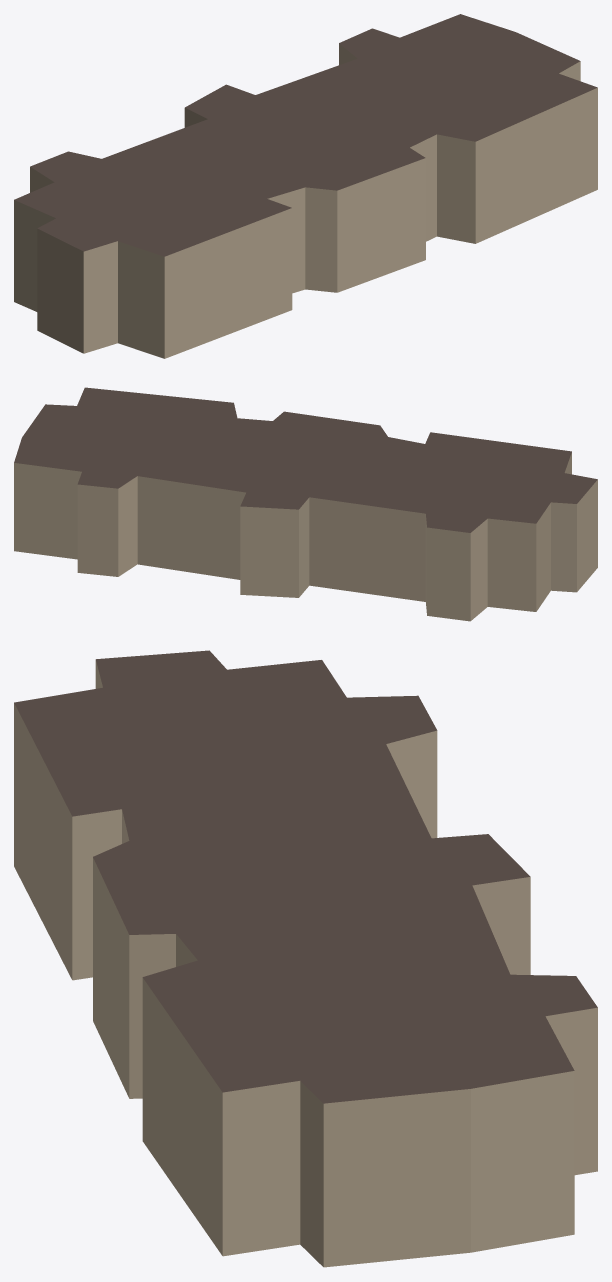
The picture shows the model from 3 angles, top to bottom: view 1: azimuth 30°, elevation 25°; view 2: azimuth 150°, elevation 25°; view 3: azimuth 270°, elevation 25°; orthographic projection. The views are drawn at different scales.
Visible parts, largest first — view 1: HP-w1512481854; view 2: HP-w1512481854; view 3: HP-w1512481854.
Part boxes in pixels (left/top/right/bottom): HP-w1512481854: left=14, top=14, right=597, bottom=358; HP-w1512481854: left=14, top=387, right=597, bottom=621; HP-w1512481854: left=14, top=650, right=597, bottom=1267.
Bounding box in the file's own units: 53.38 × 9 × 29.07.
